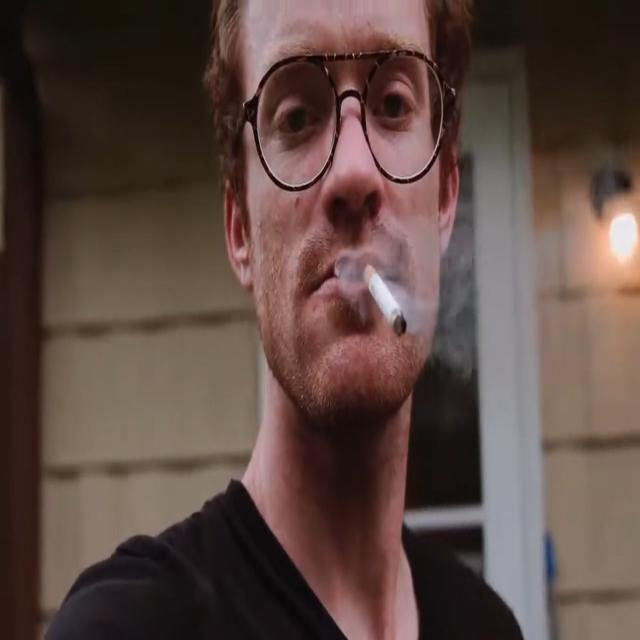Курение: (358, 258, 410, 341)
